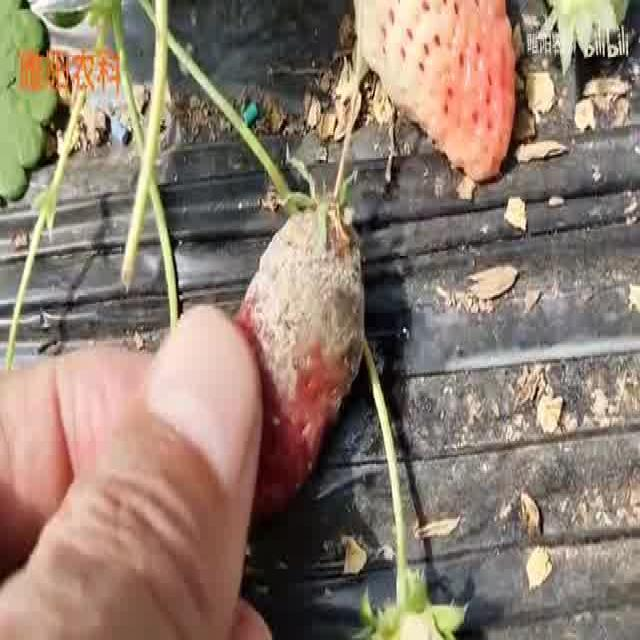Fruta sana: (355, 0, 518, 183), (535, 0, 629, 62)
Moho gris: (227, 203, 366, 521)
